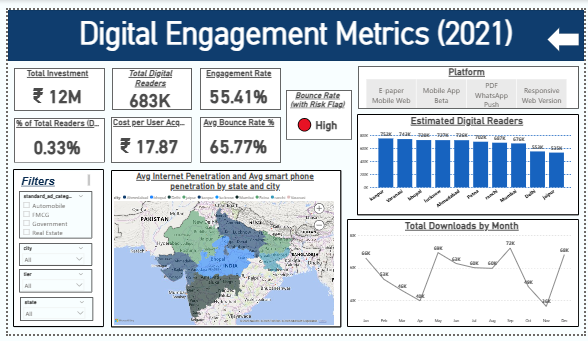

The page's visual inventory and layout, read from the dashboard file:
{"tool":"powerbi","page":{"name":"Digital Engagement Metrics","canvas":[1920,1080],"ordinal":3},"visuals":[{"type":"shape","box":[0,0,1920,170],"z":0},{"type":"textbox","box":[0,10,1920,135],"z":1000},{"type":"card","title":"Total Investment","fields":{"Values":["fact_digital_pilot.total Invested"]},"box":[20,194,302,142],"z":1001},{"type":"card","title":"Total Digital Readers","fields":{"Values":["fact_digital_pilot.Total Downloads"]},"box":[348,194,266,140],"z":1002},{"type":"card","title":"Avg Bounce Rate %","fields":{"Values":["fact_digital_pilot.Avg Bounce Rate %"]},"box":[640,356,270,152],"z":1003},{"type":"card","title":"% of Total Readers (Digital)","fields":{"Values":["fact_digital_pilot.% Digital Readers"]},"box":[20,360,302,148],"z":1004},{"type":"card","title":"Cost per User Acquired","fields":{"Values":["fact_digital_pilot.Cost per User Acquired"]},"box":[344,356,268,152],"z":1005},{"type":"actionButton","box":[1527.4,442.9,49.7,38.4],"z":1006},{"type":"slicer","title":"Platform","fields":{"Values":["fact_digital_pilot.platform"]},"box":[1166,188,736,142],"z":1007},{"type":"card","title":"Bounce Rate (with Risk Flag)","fields":{"Values":["fact_digital_pilot.Bounce Rate Flag"]},"box":[927.5,267.5,220,165],"z":1008},{"type":"card","title":"Engagement Rate","fields":{"Values":["fact_digital_pilot.Engagement Rate"]},"box":[640,194,270,140],"z":1009},{"type":"lineChart","title":"Total Downloads by Month","fields":{"Category":["calender.MonthName"],"Y":["fact_digital_pilot.Total Downloads"]},"box":[1130,697.5,772.5,360],"z":1010},{"type":"columnChart","title":"Estimated Digital Readers","fields":{"Category":["dim_city.city"],"Y":["fact_city_readiness.Estimated Digital Readers"]},"box":[1162.5,347.5,740,337.5],"z":1011},{"type":"filledMap","fields":{"Category":["dim_city.state"],"Series":["dim_city.city"]},"box":[342.5,532.5,767.5,525],"z":1012},{"type":"shape","box":[15.7,530,302.9,527.1],"z":1013},{"type":"textbox","box":[36,544,242,50],"z":1014},{"type":"slicer","fields":{"Values":["dim_city.city"]},"box":[38,778,244,76],"z":1015},{"type":"slicer","fields":{"Values":["dim_ad_category.standard_ad_category"]},"box":[38,604,244,158],"z":1016},{"type":"slicer","fields":{"Values":["dim_city.tier"]},"box":[38,864,244,78],"z":1017},{"type":"slicer","fields":{"Values":["dim_city.state"]},"box":[40,958,244,80],"z":1018},{"type":"shape","box":[1796.7,56.7,106.7,83.3],"z":1019}]}

Visuals, with their boxes in screenshot pixels (x1, y1, x2, y2):
shape: crop(5, 6, 584, 57)
textbox: crop(5, 9, 584, 50)
"Total Investment" card: crop(11, 65, 102, 108)
"Total Digital Readers" card: crop(110, 65, 190, 107)
"Avg Bounce Rate %" card: crop(198, 114, 279, 160)
"% of Total Readers (Digital)" card: crop(11, 115, 102, 160)
"Cost per User Acquired" card: crop(108, 114, 189, 160)
actionButton: crop(466, 140, 481, 151)
"Platform" slicer: crop(357, 63, 579, 106)
"Bounce Rate (with Risk Flag)" card: crop(285, 87, 351, 137)
"Engagement Rate" card: crop(198, 65, 279, 107)
"Total Downloads by Month" lineChart: crop(346, 217, 579, 326)
"Estimated Digital Readers" columnChart: crop(356, 111, 579, 213)
filledMap - dim_city.state x dim_city.city: crop(108, 167, 340, 326)
shape: crop(9, 166, 101, 325)
textbox: crop(15, 170, 89, 186)
slicer - dim_city.city: crop(16, 241, 90, 264)
slicer - dim_ad_category.standard_ad_category: crop(16, 189, 90, 236)
slicer - dim_city.tier: crop(16, 267, 90, 291)
slicer - dim_city.state: crop(17, 295, 90, 320)
shape: crop(547, 23, 579, 48)
